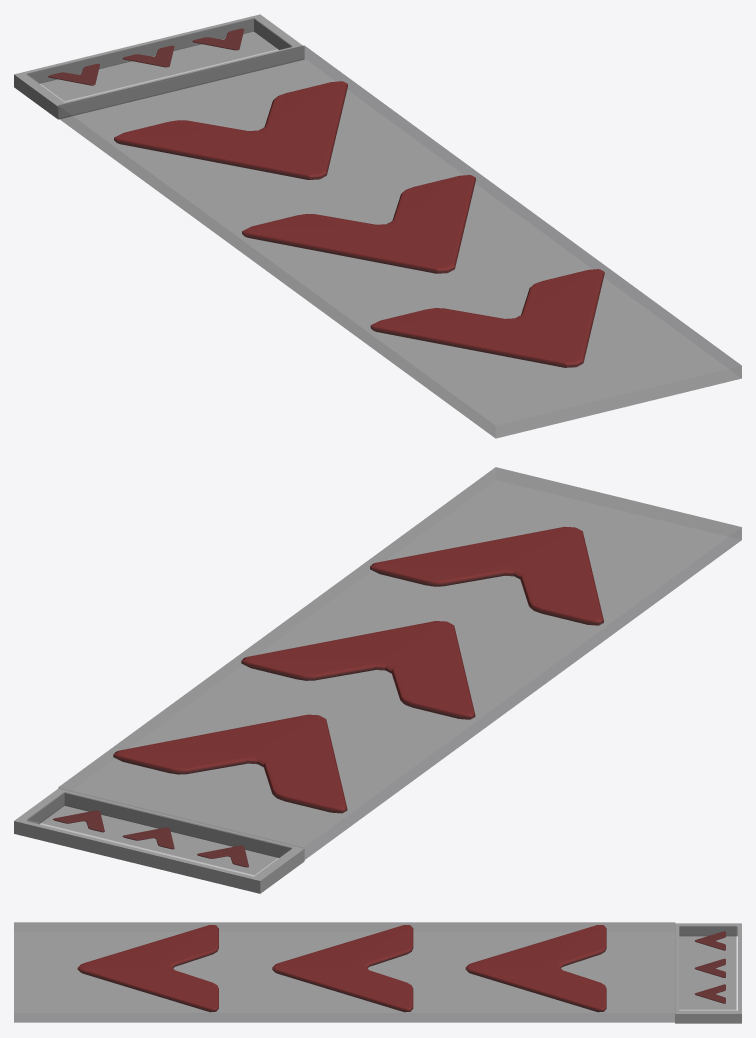
File: Gplatform.fbx
3 views of the same model, one above another, from view 1: azimuth 30°, elevation 25°; view 2: azimuth 150°, elevation 25°; view 3: azimuth 270°, elevation 25° (orthographic). The views are drawn at different scales.
Visible parts, largest first — view 1: Transparent, Opaque; view 2: Transparent, Opaque; view 3: Transparent, Opaque.
Part boxes in pixels (x1,y1,x2,y2): Transparent: (27,18,741,438); Opaque: (14,14,604,367); Transparent: (27,467,741,876); Opaque: (14,526,603,893); Transparent: (14,922,736,1022); Opaque: (77,923,741,1023).
Bounding box in the file's own units: 14.96 × 0.9439 × 50.66.
